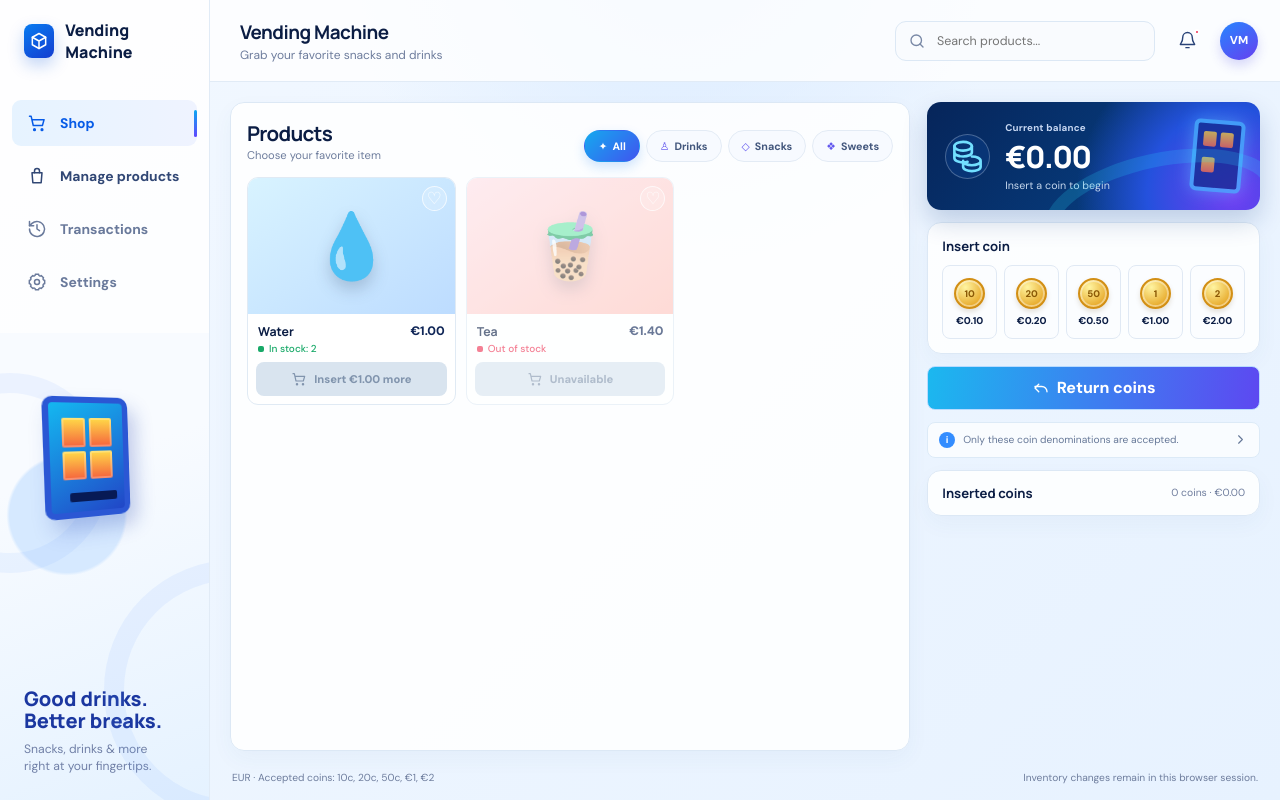
Test: App › adds a product in local state
Expected: the heading "Water" is shown, [258, 323, 294, 340]
Click the button with aria-label "Manage inventory".
click(104, 176)  # box [12, 153, 197, 199]
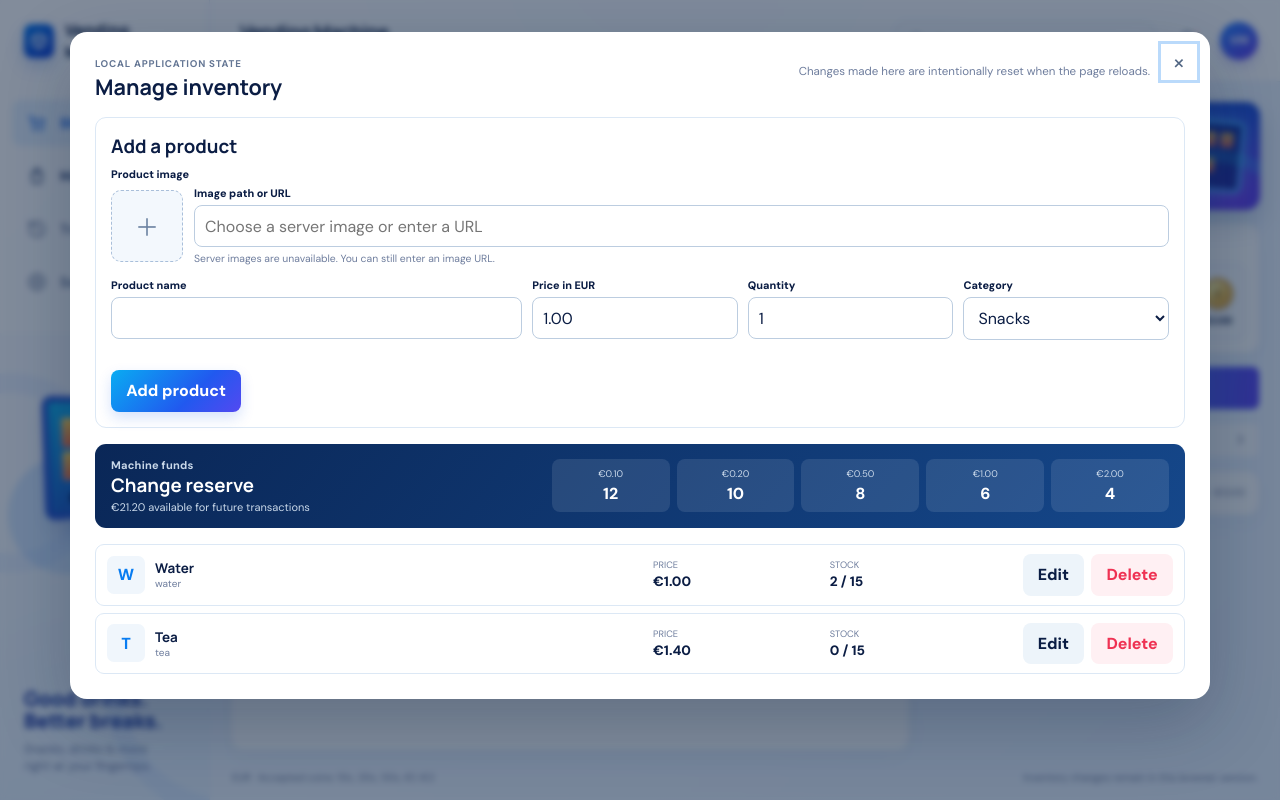
Type "Crackers" into the field labelled "Product name".
click(317, 318); type("Crackers")  # box [111, 297, 522, 339]
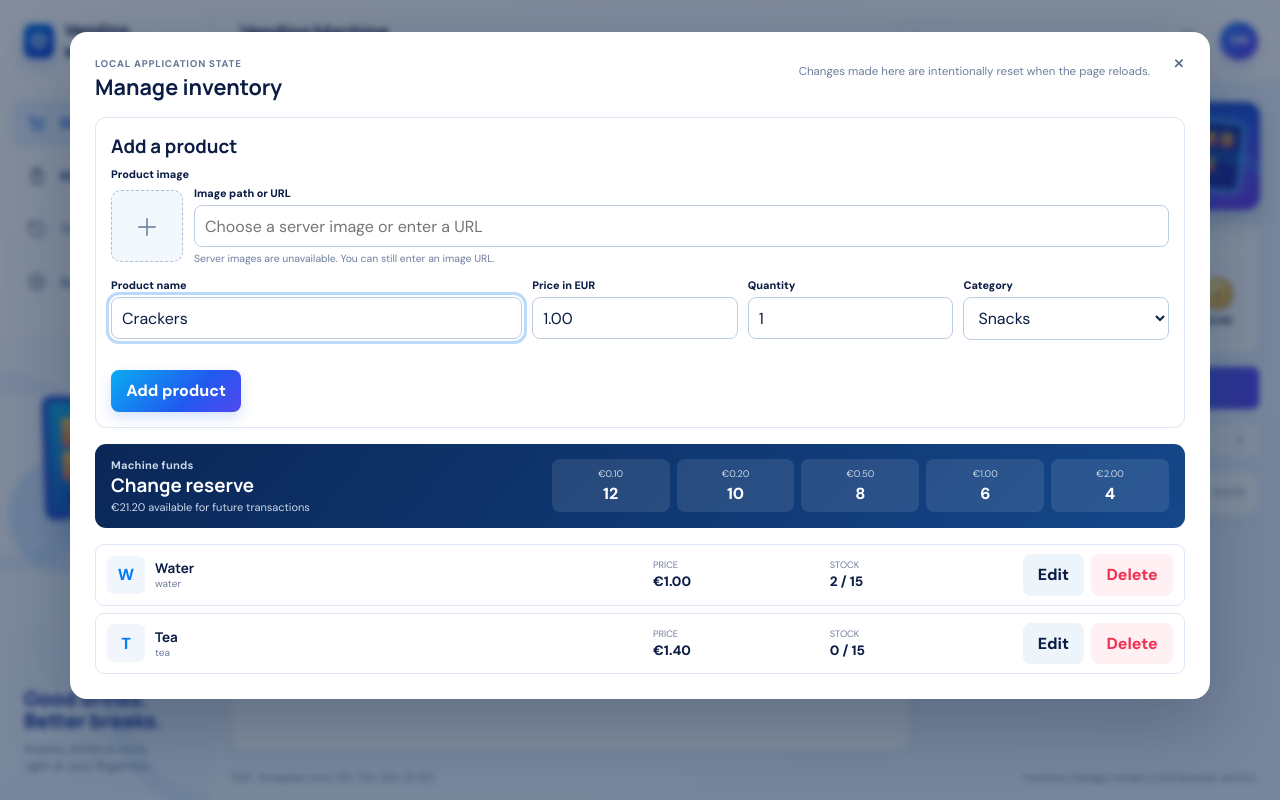
Click the button "Add product".
click(176, 391)  # box [111, 370, 241, 412]
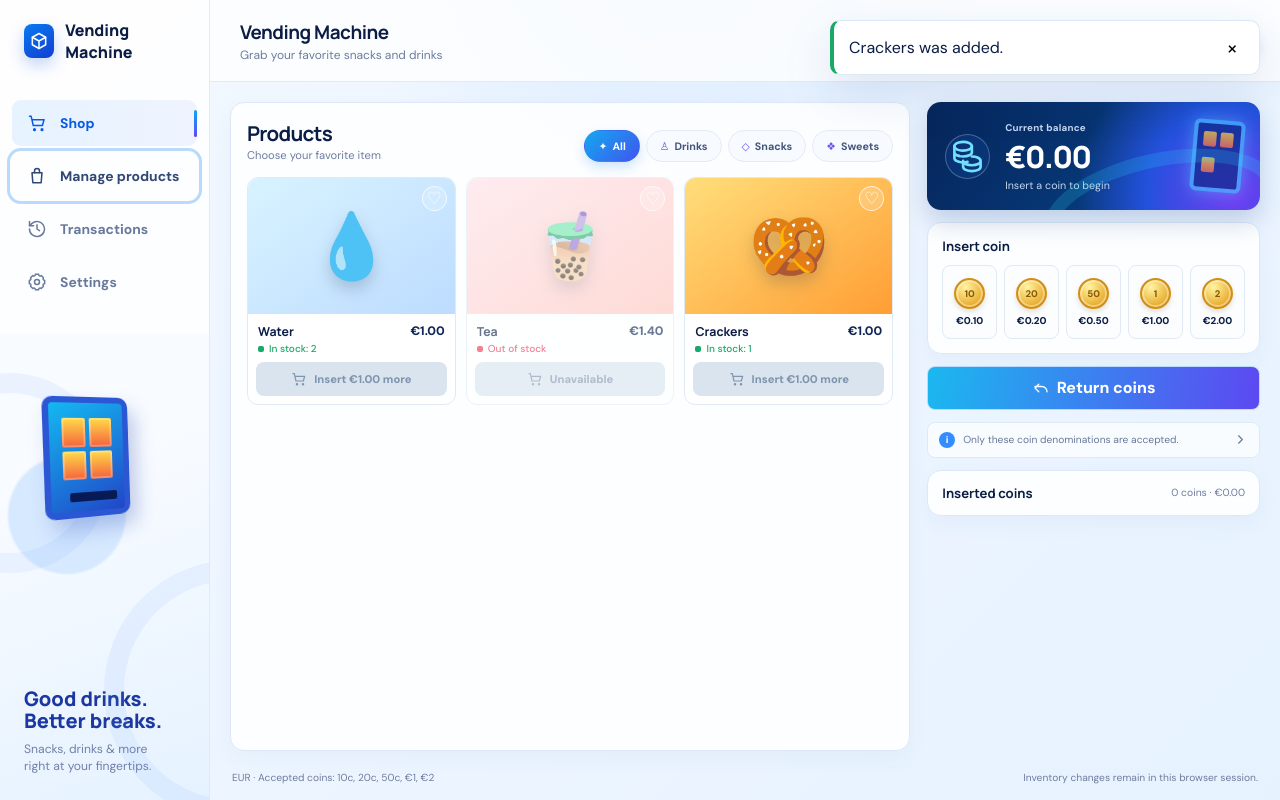
Expected: the heading "Crackers" is shown, [696, 323, 749, 340]
